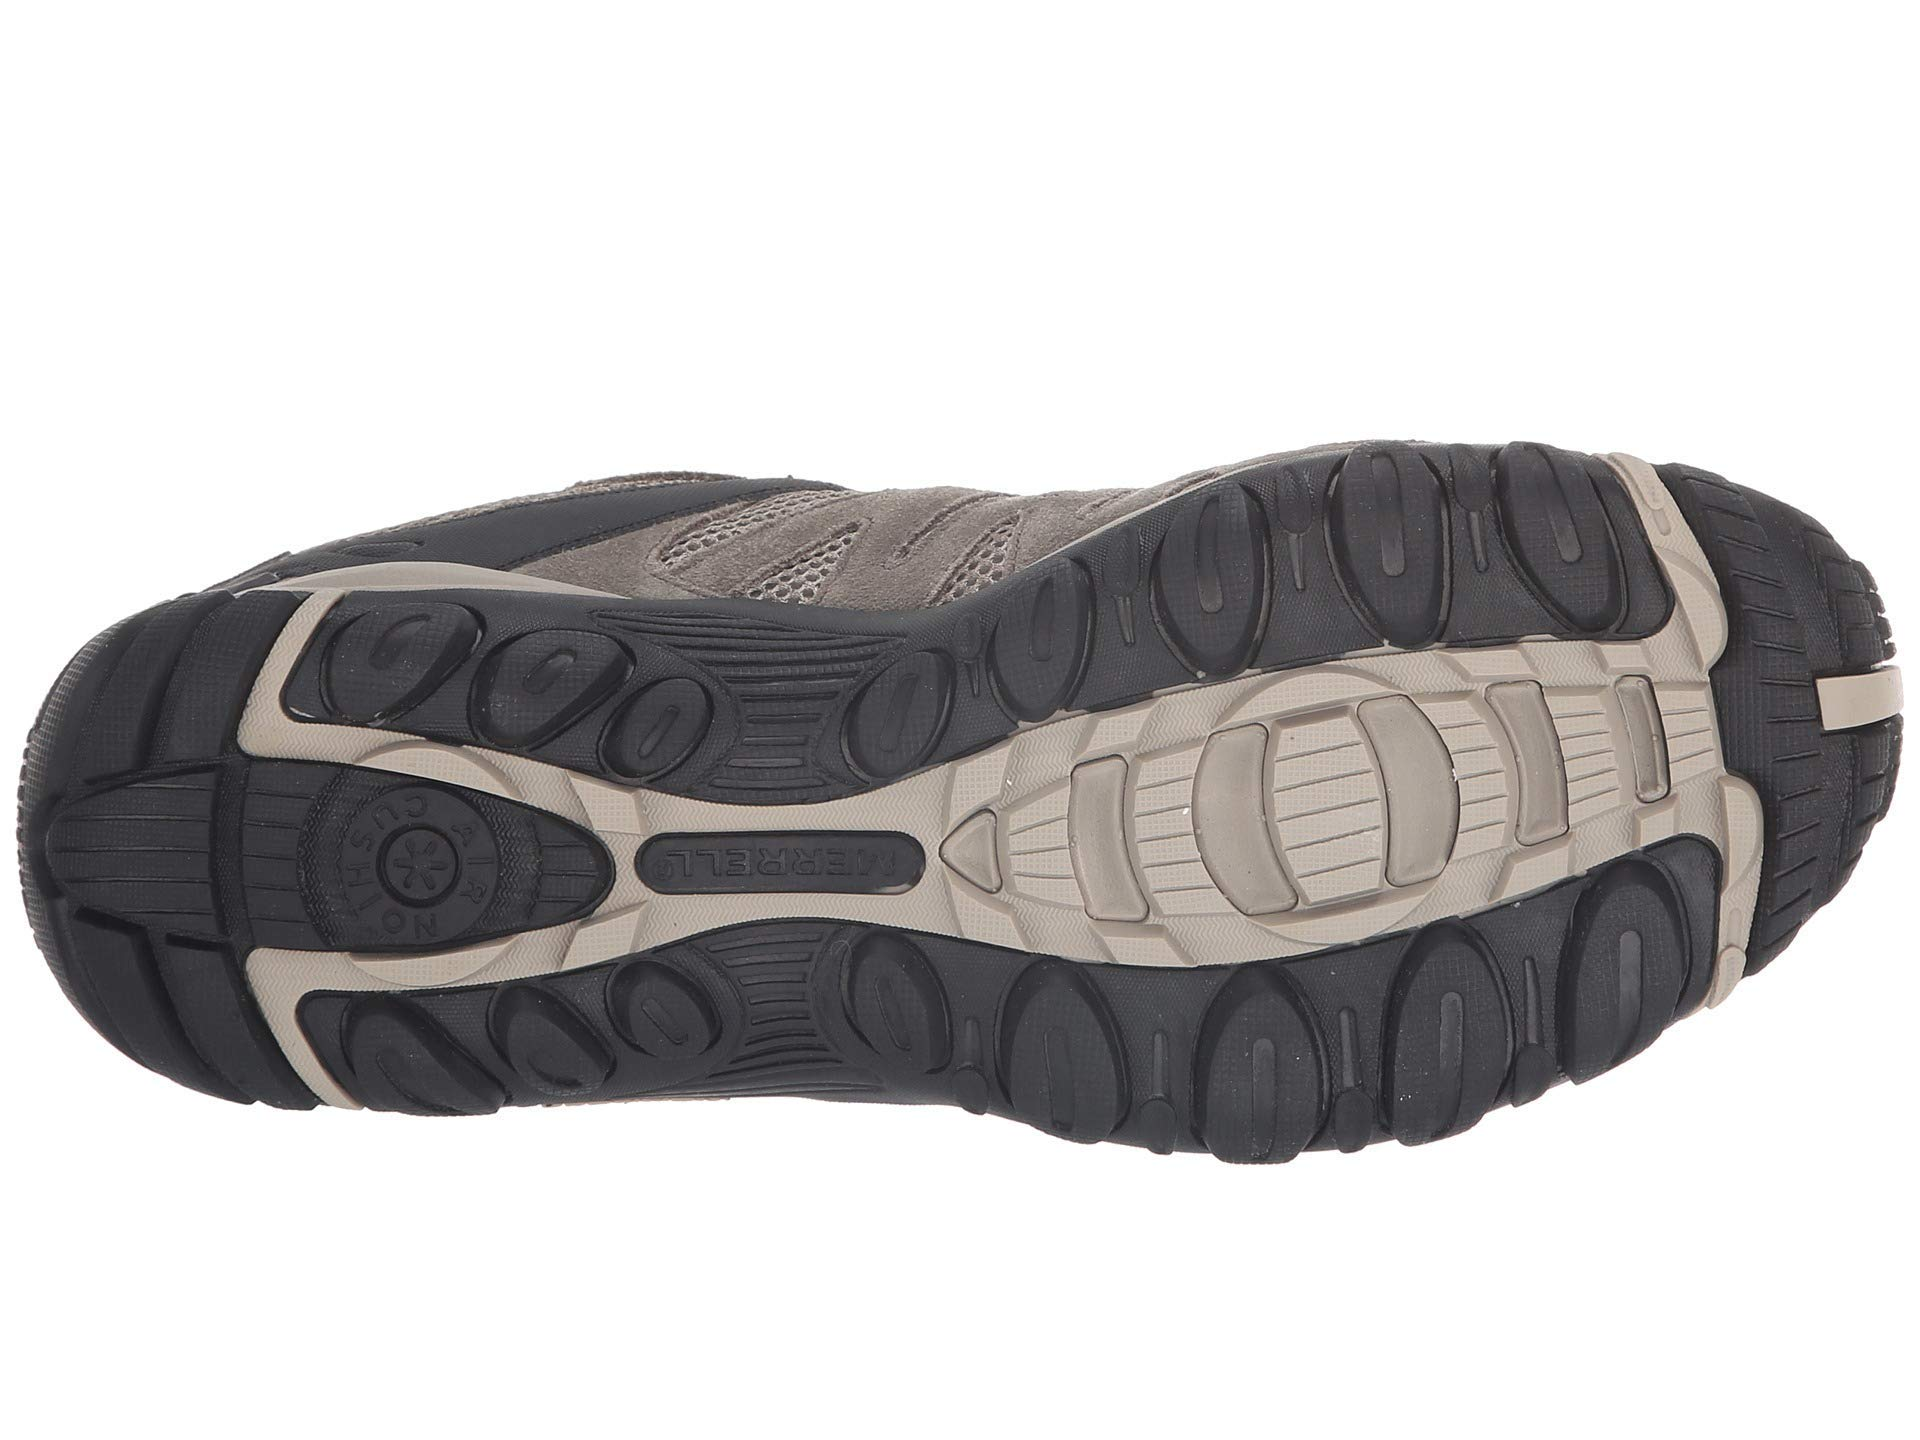circle: (331, 782, 496, 948)
exclude: (163, 405, 1267, 605)
quad: (1063, 703, 1512, 911), (48, 749, 299, 953), (1500, 658, 1739, 808), (620, 818, 940, 920)
star: (331, 782, 496, 948)
text: (620, 818, 940, 920), (331, 782, 496, 948)
triangle: (48, 749, 299, 953), (942, 812, 1079, 915)
